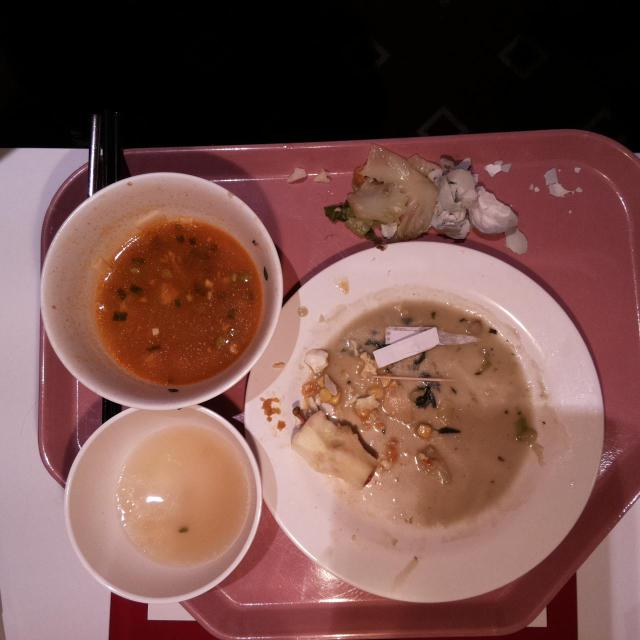Apple-core: (289, 404, 378, 489)
Egg-shell: (438, 154, 521, 238)
Vegetable: (368, 144, 440, 238), (325, 196, 377, 237)
